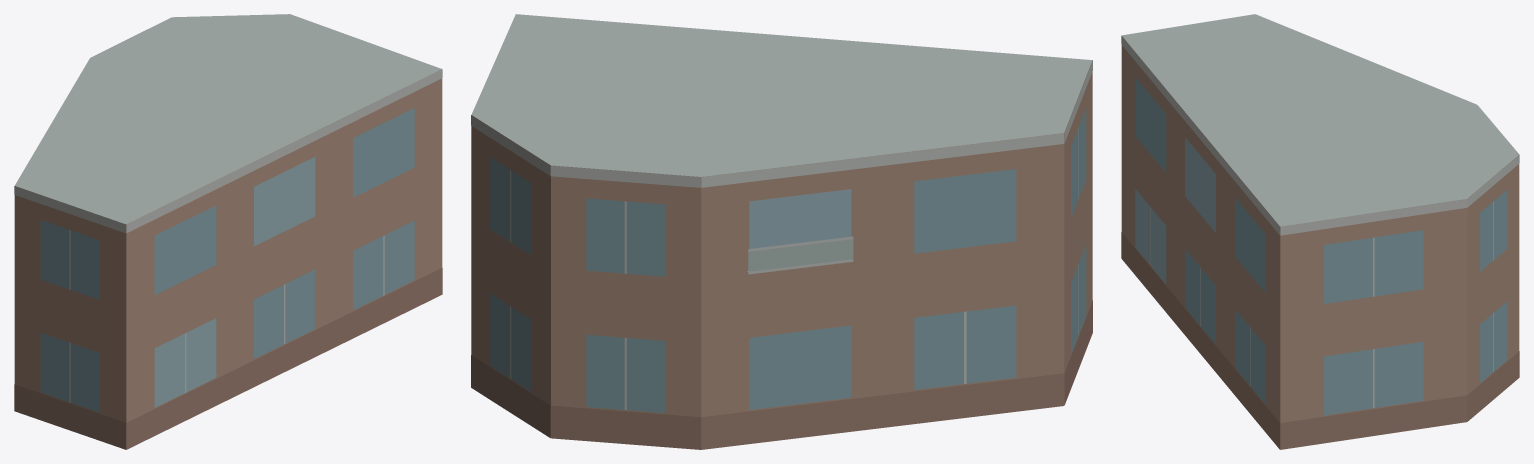
File: survey-upis-32609807.glb
3 renders of one model, left to right at view 1: azimuth 30°, elevation 25°; view 2: azimuth 150°, elevation 25°; view 3: azimuth 270°, elevation 25°, orthographic. The views are drawn at different scales.
Visible parts, largest first — view 1: survey-upis-32609807.tmp; view 2: survey-upis-32609807.tmp; view 3: survey-upis-32609807.tmp.
Boxes of the visible parts, bbox=[...] form: survey-upis-32609807.tmp: bbox=[14, 14, 442, 449]; survey-upis-32609807.tmp: bbox=[471, 14, 1092, 449]; survey-upis-32609807.tmp: bbox=[1121, 14, 1519, 449].
Size of the model in its own units: 12.49 by 6.1 by 9.87.
